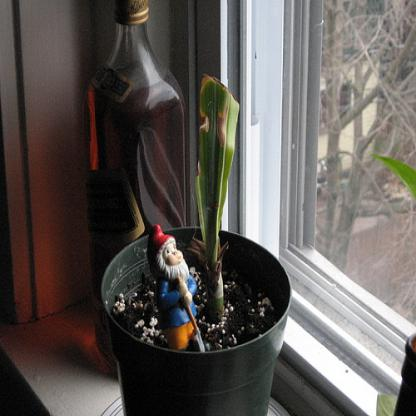bottle: (84, 0, 186, 357)
pottedplant: (102, 73, 292, 415)
